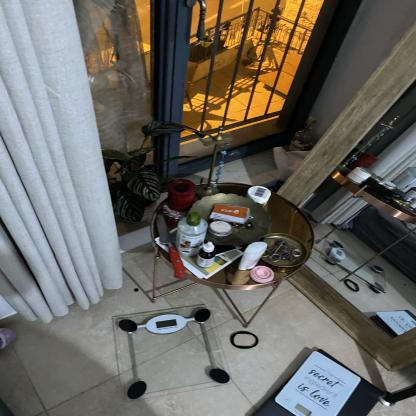Knife: (155, 210, 186, 279)
